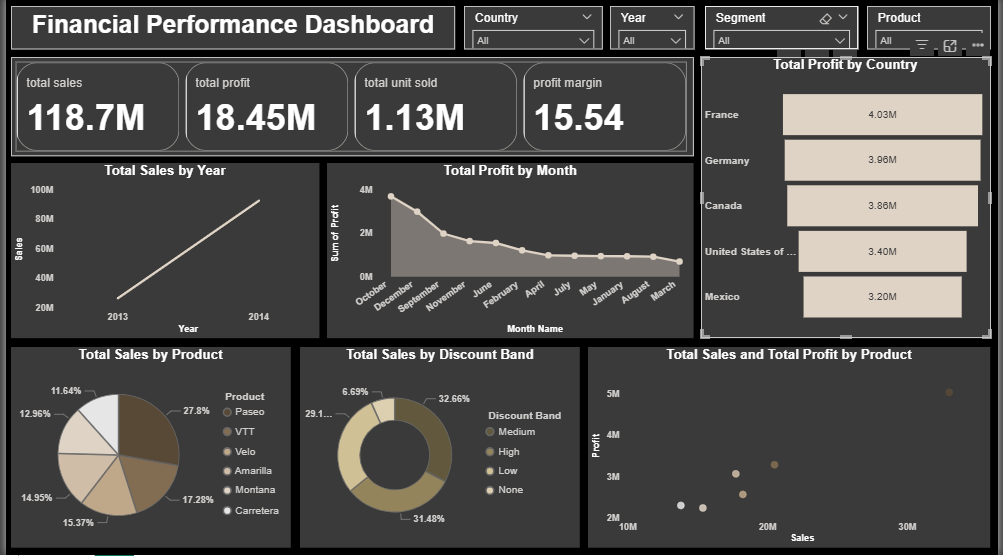

The page's visual inventory and layout, read from the dashboard file:
{"tool":"powerbi","page":{"name":"Page 1","canvas":[1280,720],"ordinal":0},"visuals":[{"type":"lineChart","title":"Total Sales  by Year","fields":{"Y":["Sum(financial_data.  Sales )"],"Category":["financial_data.Date.Variation.Date Hierarchy.Year"]},"box":[6.9,214.7,397.8,225.7],"z":0},{"type":"stackedAreaChart","title":"Total Profit  by  Month","fields":{"Y":["Sum(financial_data. Profit )"],"Category":["financial_data. Month Name "]},"box":[414.3,214.7,473.5,225.7],"z":1000},{"type":"pieChart","title":"Total Sales  by  Product ","fields":{"Category":["financial_data. Product "],"Y":["Sum(financial_data.  Sales )"]},"box":[6.9,451.4,360.6,258.8],"z":2000},{"type":"funnel","title":"Total Profit  by Country","fields":{"Category":["financial_data.Country"],"Y":["Sum(financial_data. Profit )"]},"box":[897.4,77.1,373,363.4],"z":3000},{"type":"donutChart","title":"Total Sales  by  Discount Band ","fields":{"Category":["financial_data. Discount Band "],"Y":["Sum(financial_data.  Sales )"]},"box":[378.8,451.1,361.4,258.8],"z":4000},{"type":"scatterChart","title":"Total Sales  and Total Profit  by  Product ","fields":{"Category":["financial_data. Product "],"X":["Sum(financial_data.  Sales )"],"Y":["Sum(financial_data. Profit )"]},"box":[750.4,451.1,519,258.8],"z":5000},{"type":"textbox","box":[6.9,11,572.6,56.4],"z":6000},{"type":"slicer","fields":{"Values":["financial_data.Country"]},"box":[590.5,11,178.9,56.4],"z":7000},{"type":"slicer","fields":{"Values":["financial_data.Year"]},"box":[779,11,108.7,56.4],"z":8000},{"type":"slicer","fields":{"Values":["financial_data.Segment"]},"box":[901.5,11,198.2,56.4],"z":9000},{"type":"slicer","fields":{"Values":["financial_data. Product "]},"box":[1110.7,11,159.7,56.4],"z":10000},{"type":"cardVisual","fields":{"Data":["financial_data.total sales","financial_data.total profit","financial_data.total unit sold","financial_data.profit margin"]},"box":[6.9,77.1,880.9,128],"z":11000}]}

Visuals, with their boxes in screenshot pixels (x1, y1, x2, y2), scaled from the page's 1280x720 canvas onto the 1003x556 screenshot:
"Total Sales  by Year" lineChart: 5/166/317/340
"Total Profit  by  Month" stackedAreaChart: 325/166/696/340
"Total Sales  by  Product " pieChart: 5/349/288/548
"Total Profit  by Country" funnel: 703/60/995/340
"Total Sales  by  Discount Band " donutChart: 297/348/580/548
"Total Sales  and Total Profit  by  Product " scatterChart: 588/348/995/548
textbox: 5/8/454/52
slicer - financial_data.Country: 463/8/603/52
slicer - financial_data.Year: 610/8/696/52
slicer - financial_data.Segment: 706/8/862/52
slicer - financial_data. Product : 870/8/995/52
cardVisual - financial_data.total sales x financial_data.total profit: 5/60/696/158
